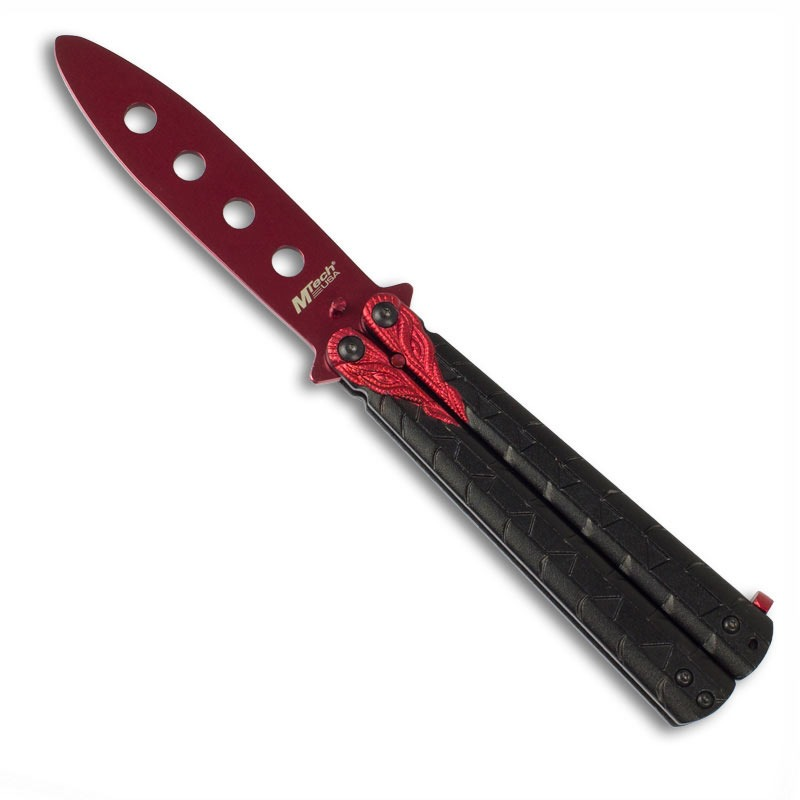knife: (45, 23, 776, 735)
